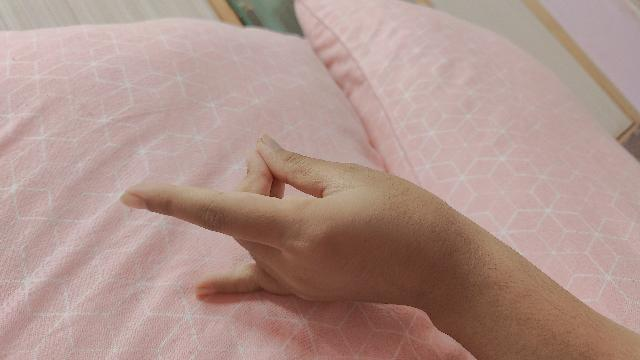sinhamukh: (118, 136, 640, 360)
